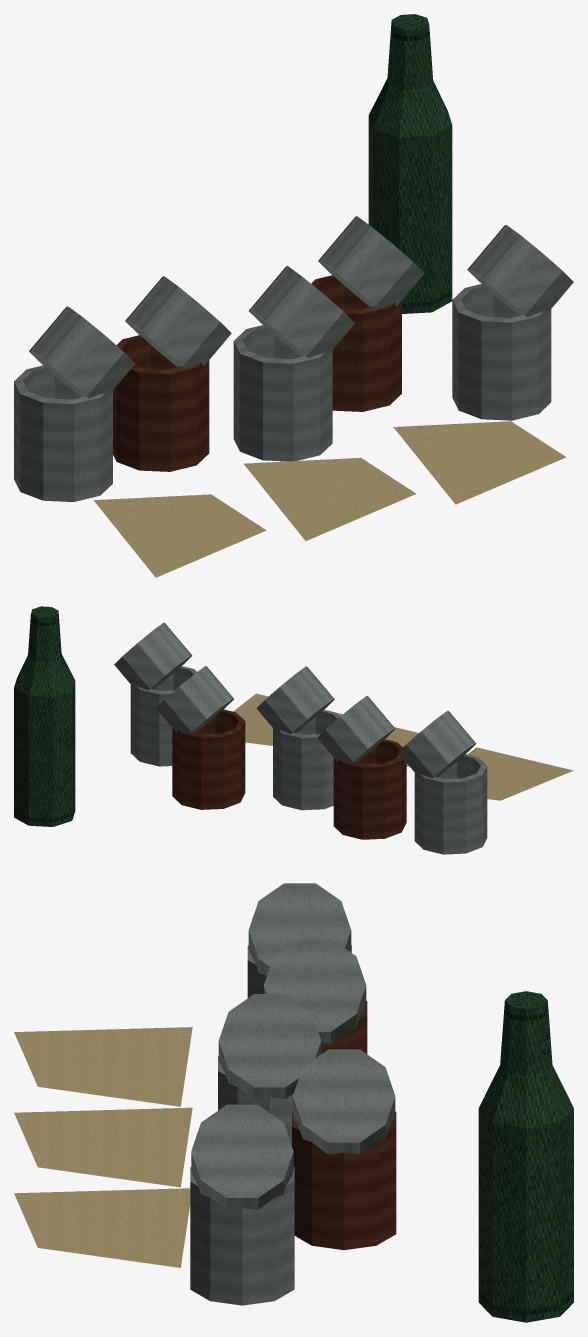
The model's file is level_trace_food_trash.glb.
The picture shows the model from 3 angles, top to bottom: view 1: azimuth 30°, elevation 25°; view 2: azimuth 150°, elevation 25°; view 3: azimuth 270°, elevation 25°; orthographic projection. The views are drawn at different scales.
Visible parts, largest first — view 1: level_trace_food_trash; view 2: level_trace_food_trash; view 3: level_trace_food_trash.
Boxes of the visible parts, <box> form: level_trace_food_trash: <box>14,14,573,577</box>; level_trace_food_trash: <box>14,606,573,854</box>; level_trace_food_trash: <box>14,883,573,1322</box>.
Bounding box in the file's own units: 0.566 × 0.28 × 0.47.
4 materials, 4 textured.
